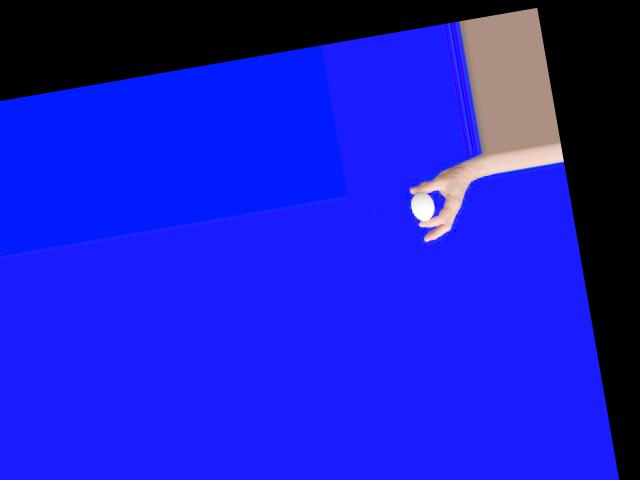egg: (408, 190, 436, 223)
